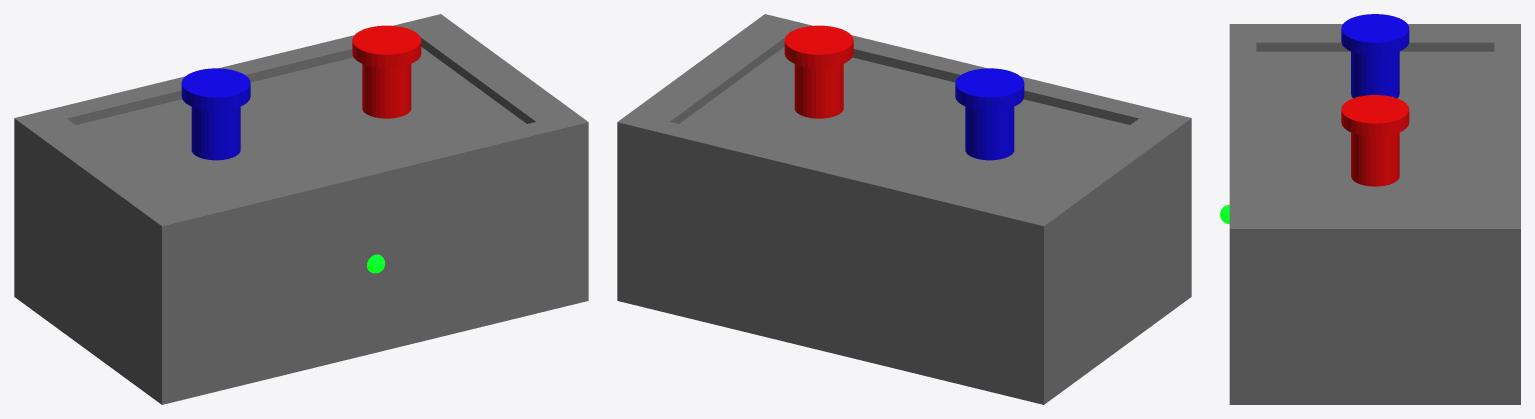
The model's file is PowerSupply.fbx.
3 renders of one model, left to right at view 1: azimuth 30°, elevation 25°; view 2: azimuth 150°, elevation 25°; view 3: azimuth 270°, elevation 25°, orthographic.
Parts seen in each view (by area): view 1: PowerBody, Pos, Neg; view 2: PowerBody, Pos, Neg; view 3: PowerBody, Pos, Neg.
Part boxes in pixels (<box>): PowerBody: <box>14,14,588,404</box>; Pos: <box>352,25,421,118</box>; Neg: <box>181,68,250,160</box>; PowerBody: <box>617,14,1191,404</box>; Pos: <box>784,25,853,118</box>; Neg: <box>955,68,1024,160</box>; PowerBody: <box>1229,24,1520,404</box>; Pos: <box>1341,95,1409,186</box>; Neg: <box>1341,14,1409,98</box>.
Bounding box in the file's own units: 0.1 × 0.0533 × 0.062.
